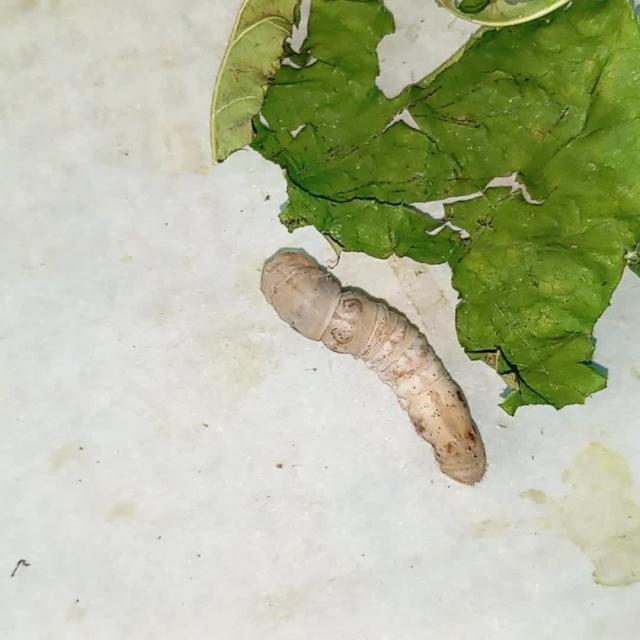Grasserie: (240, 210, 506, 506)
